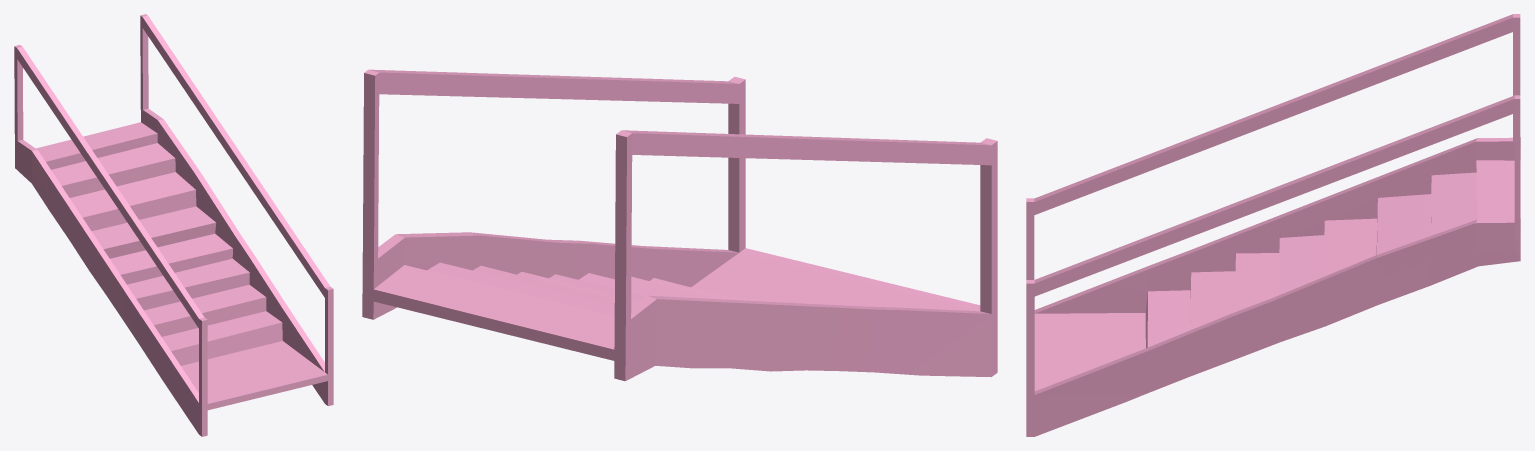
File: Staircase.fbx
3 views of the same model, side by side, from view 1: azimuth 30°, elevation 25°; view 2: azimuth 150°, elevation 25°; view 3: azimuth 270°, elevation 25° (orthographic). The views are drawn at different scales.
Parts seen in each view (by area): view 1: pCube6; view 2: pCube6; view 3: pCube6.
Part boxes in pixels (<box>): pCube6: <box>14,14,333,436</box>; pCube6: <box>362,69,997,381</box>; pCube6: <box>1026,14,1520,436</box>.
Size of the model in its own units: 136 by 250 by 332.
Materials: 1 (1 with a texture image).
